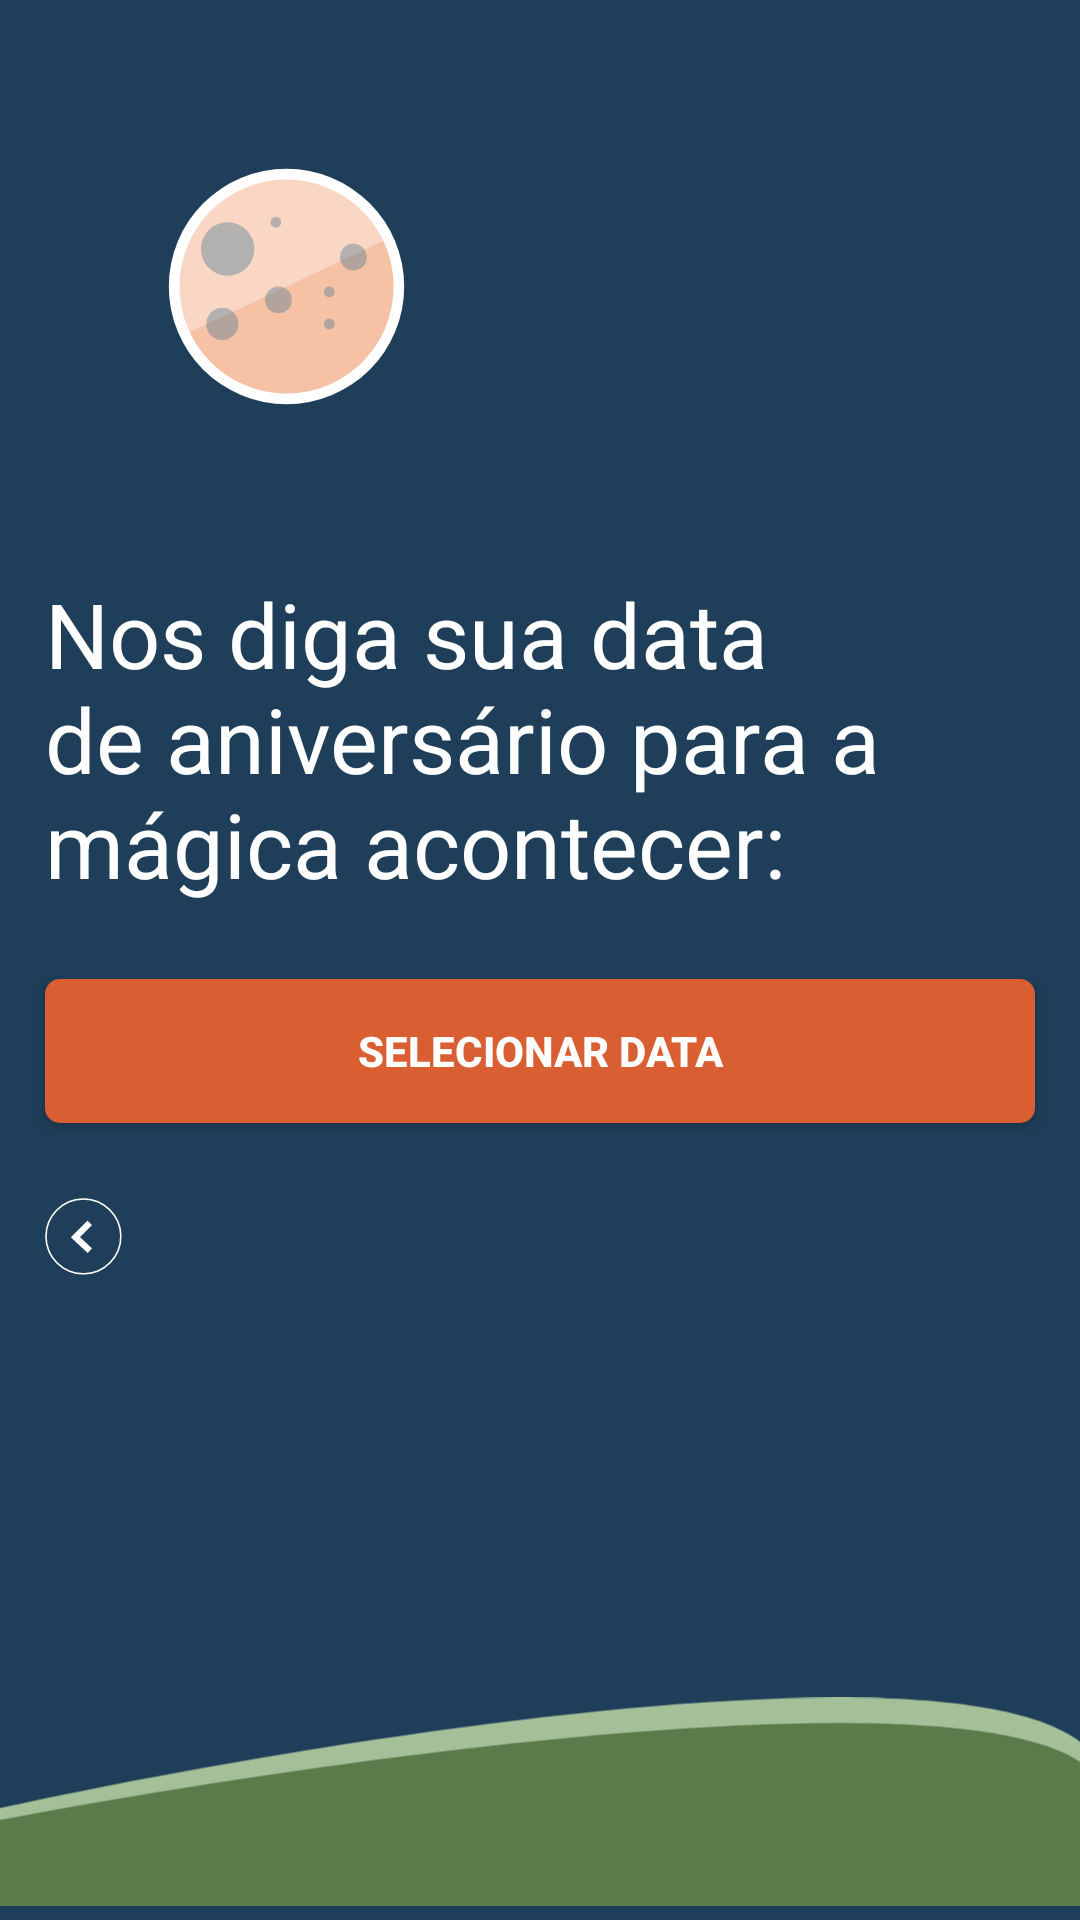

Named icons in this screenshot (1080x1920) and their bounding boxes, region(x1, y1, x2, y2):
back: region(45, 1198, 122, 1275)
moon: region(168, 168, 405, 405)
